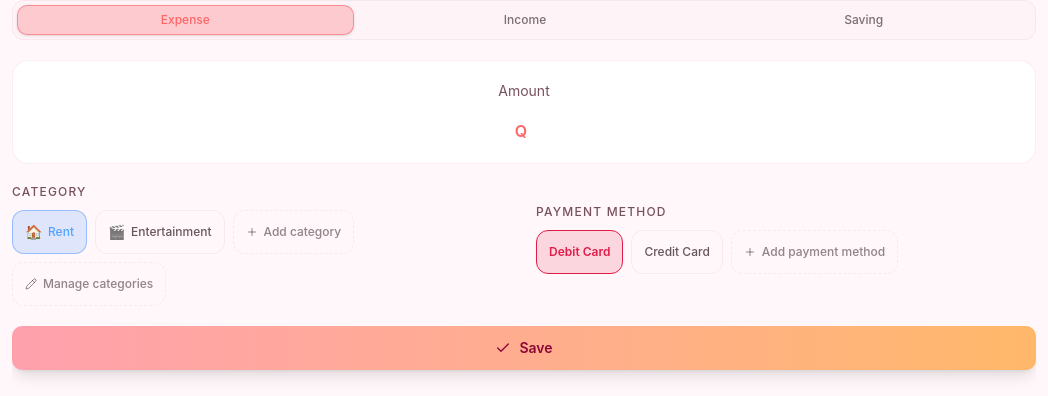
Test: TransactionForm type tabs › does not offer expense categories for saving type when there are no savings categories
Click the button "Saving": (864, 20) [696,5,1031,35]
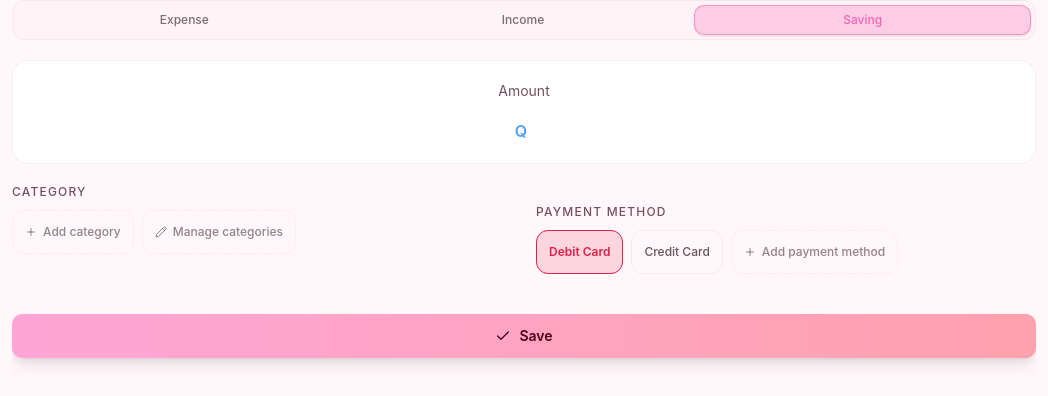
Check: the button "Add category" is shown, box [12,210,134,254]
Check: the button "Rent" is gone
Check: the button "Entertainment" is gone
